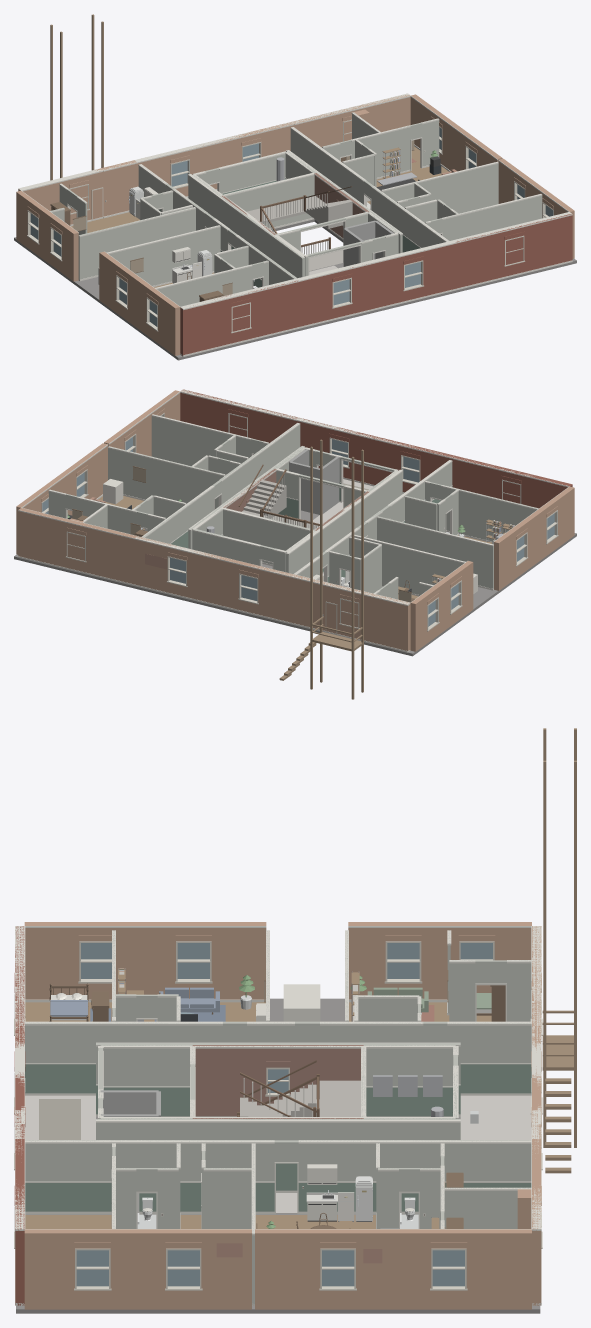
The model's file is floor_02.glb.
3 views of the same model, one above another, from view 1: azimuth 30°, elevation 25°; view 2: azimuth 150°, elevation 25°; view 3: azimuth 270°, elevation 25° (orthographic). The views are drawn at different scales.
Parts seen in each view (by area): view 1: F02_walls-col, F02_walls_cbrick-col, F02_walls_fbrick-col, F02_trim, F02_stone_trim-col, F02_glazing-col, F02_slabs-col, F02_stairs, F02_furniture_timber-col, F02_walls_conc-col, F02_floors_floor_oak, F02_walls_brick-col (+6 smaller); view 2: F02_walls-col, F02_walls_cbrick-col, F02_trim, F02_walls_fbrick-col, F02_furniture_timber-col, F02_stone_trim-col, F02_glazing-col, F02_slabs-col, F02_walls_conc-col, F02_stairs, F02_walls_brick-col, F02_wainscot (+3 smaller); view 3: F02_walls-col, F02_walls_cbrick-col, F02_trim, F02_wainscot, F02_glazing-col, F02_walls_brick-col, F02_furniture_timber-col, F02_floors_terrazzo, F02_stone_trim-col, F02_floors_floor_oak, F02_slabs-col, F02_walls_fbrick-col (+11 smaller).
Part boxes in pixels (x1,y1,x2,y2): F02_walls-col: [50, 113, 542, 306]; F02_walls_cbrick-col: [16, 94, 574, 355]; F02_walls_fbrick-col: [180, 214, 572, 355]; F02_trim: [18, 93, 572, 356]; F02_stone_trim-col: [27, 119, 553, 333]; F02_glazing-col: [30, 127, 553, 326]; F02_slabs-col: [14, 219, 576, 360]; F02_stairs: [246, 196, 352, 270]; F02_furniture_timber-col: [50, 14, 103, 180]; F02_walls_conc-col: [343, 220, 393, 266]; F02_floors_floor_oak: [71, 146, 448, 287]; F02_walls_brick-col: [222, 173, 368, 237]; F02_walls-col: [48, 415, 538, 599]; F02_walls_cbrick-col: [16, 390, 574, 651]; F02_trim: [18, 389, 570, 652]; F02_walls_fbrick-col: [180, 389, 572, 508]; F02_furniture_timber-col: [279, 439, 363, 699]; F02_stone_trim-col: [41, 413, 558, 635]; F02_glazing-col: [42, 437, 554, 626]; F02_slabs-col: [14, 510, 576, 656]; F02_walls_conc-col: [289, 449, 339, 514]; F02_stairs: [241, 480, 318, 529]; F02_walls_brick-col: [223, 468, 369, 530]; F02_wainscot: [171, 482, 452, 582]; F02_walls-col: [25, 930, 531, 1305]; F02_walls_cbrick-col: [24, 922, 541, 1309]; F02_trim: [15, 926, 541, 1305]; F02_wainscot: [25, 1064, 531, 1211]; F02_glazing-col: [76, 943, 492, 1286]; F02_walls_brick-col: [192, 1045, 363, 1118]; F02_furniture_timber-col: [542, 728, 576, 1173]; F02_floors_terrazzo: [25, 1095, 531, 1213]; F02_stone_trim-col: [14, 941, 542, 1290]; F02_floors_floor_oak: [25, 1002, 491, 1228]; F02_slabs-col: [16, 998, 540, 1313]; F02_walls_fbrick-col: [14, 926, 25, 1305].
Size of what is drawn, in the model's own units: 28.1 by 16.2 by 21.41.
